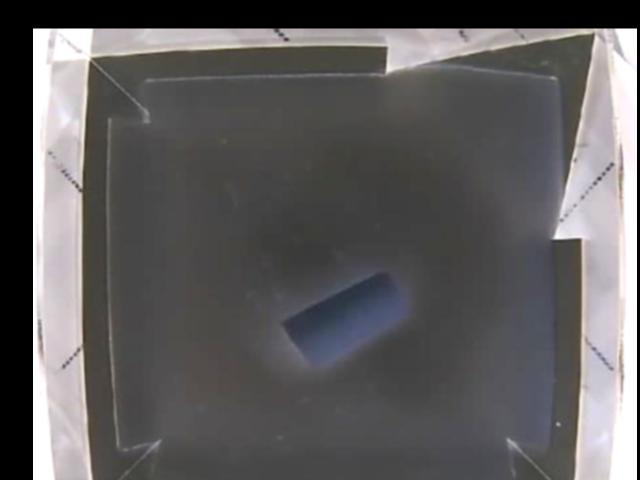Mooli: (280, 268, 405, 361)
